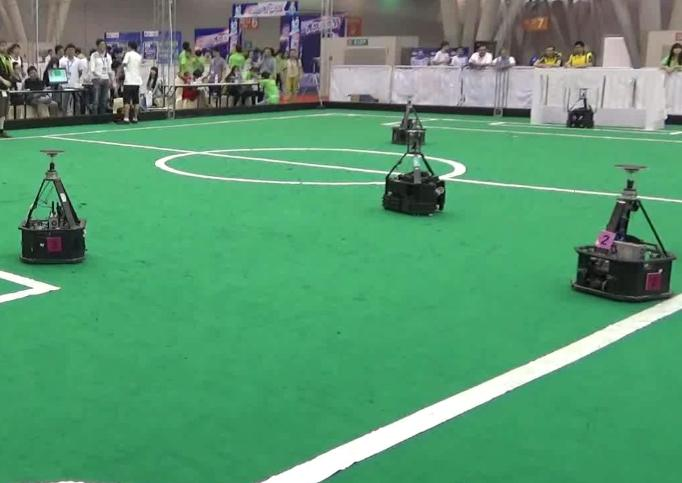robot: (569, 157, 678, 305), (14, 146, 90, 268), (378, 128, 450, 218)
